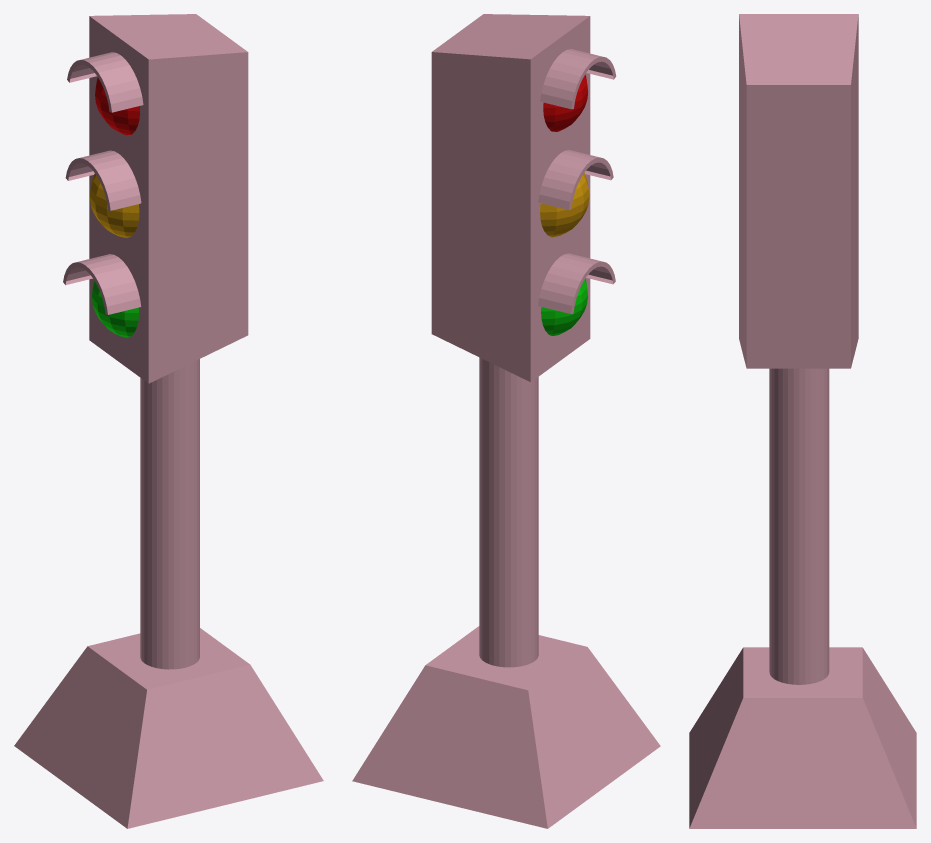
The model's file is semaforo.obj.
3 renders of one model, left to right at view 1: azimuth 30°, elevation 25°; view 2: azimuth 150°, elevation 25°; view 3: azimuth 270°, elevation 25°, orthographic.
Visible parts, largest first — view 1: semaforoUno_body, semaforoUno_yellowlight, semaforoUno_greenlight, semaforoUno_redlight; view 2: semaforoUno_body, semaforoUno_yellowlight, semaforoUno_greenlight, semaforoUno_redlight; view 3: semaforoUno_body.
Part boxes in pixels (x1,y1,x2,y2): semaforoUno_body: [14, 14, 323, 828]; semaforoUno_yellowlight: [89, 173, 139, 238]; semaforoUno_greenlight: [92, 280, 138, 337]; semaforoUno_redlight: [95, 77, 139, 135]; semaforoUno_body: [352, 14, 660, 828]; semaforoUno_yellowlight: [540, 173, 589, 237]; semaforoUno_greenlight: [541, 278, 587, 335]; semaforoUno_redlight: [543, 74, 587, 131]; semaforoUno_body: [689, 14, 916, 828].
Size of the model in its own units: 3.81 by 13.69 by 3.81.
